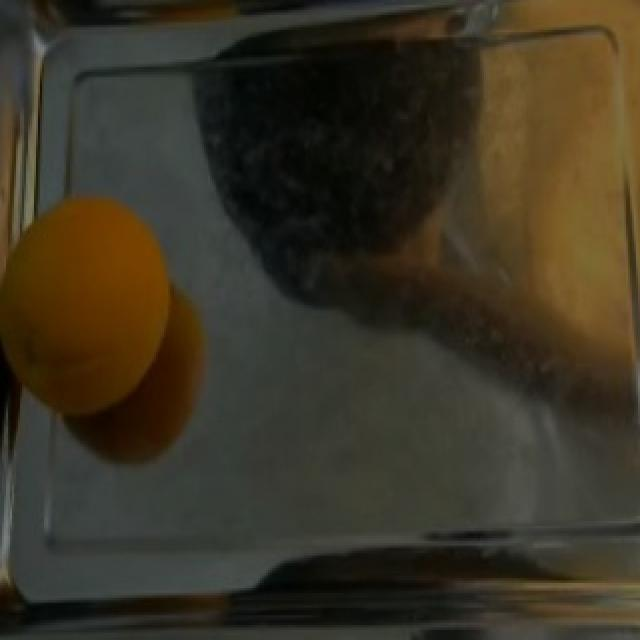Fruit: (2, 178, 178, 436)
